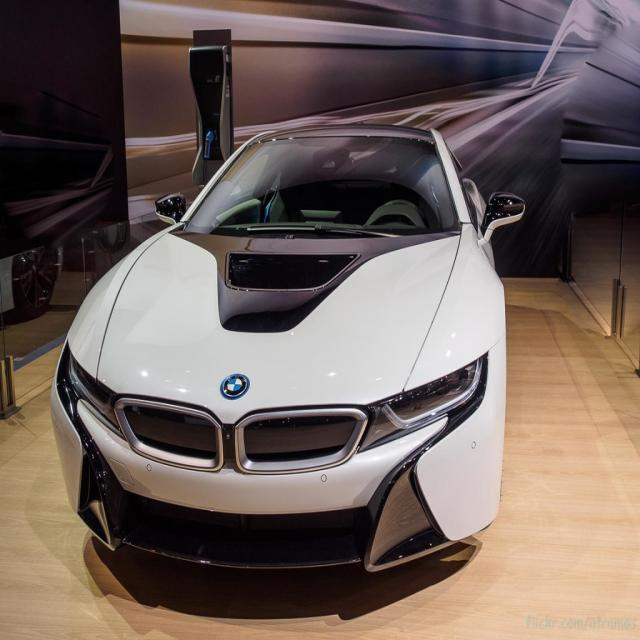car: (48, 120, 528, 577)
